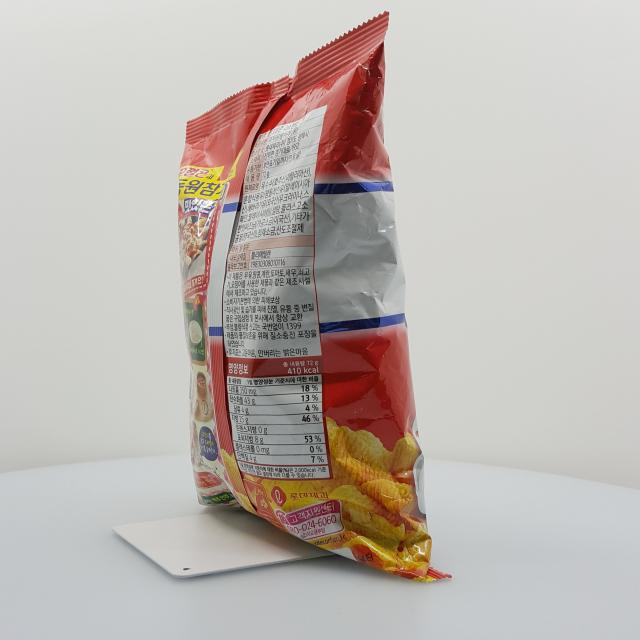-72G: (178, 11, 453, 584)
